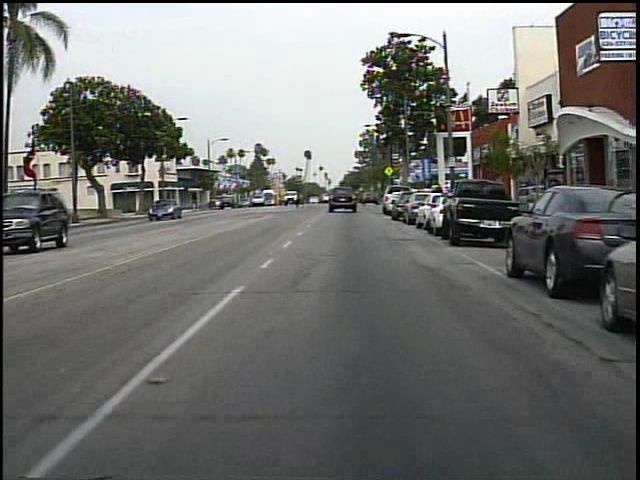person: (430, 180, 450, 218), (293, 185, 307, 212)
